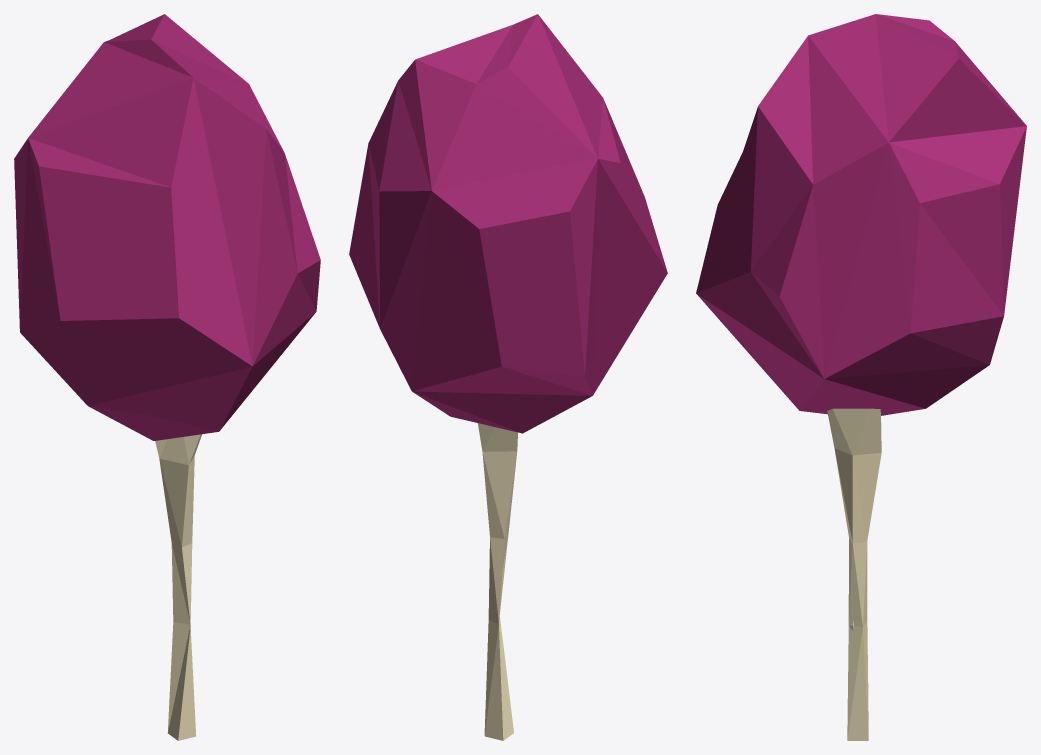
Rendered from tree-3.dae.
3 views of the same model, side by side, from view 1: azimuth 30°, elevation 25°; view 2: azimuth 150°, elevation 25°; view 3: azimuth 270°, elevation 25° (orthographic). The views are drawn at different scales.
Parts seen in each view (by area): view 1: Crown, Bole; view 2: Crown, Bole; view 3: Crown, Bole.
Boxes of the visible parts, x1=… form: Crown: x1=14, y1=14, x2=320, y2=440; Bole: x1=155, y1=434, x2=201, y2=740; Crown: x1=349, y1=14, x2=667, y2=433; Bole: x1=477, y1=423, x2=517, y2=740; Crown: x1=696, y1=14, x2=1026, y2=415; Bole: x1=827, y1=408, x2=881, y2=740.
Size of the model in its own units: 1.67 by 1.79 by 4.24.
